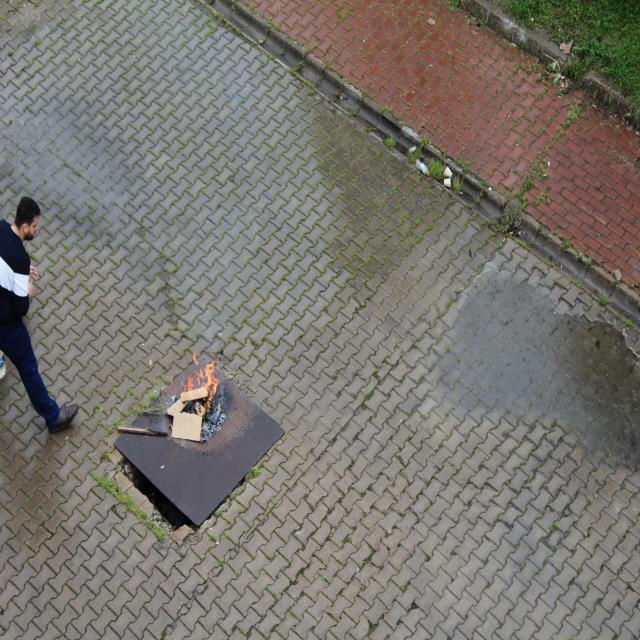fire: (183, 341, 224, 413)
